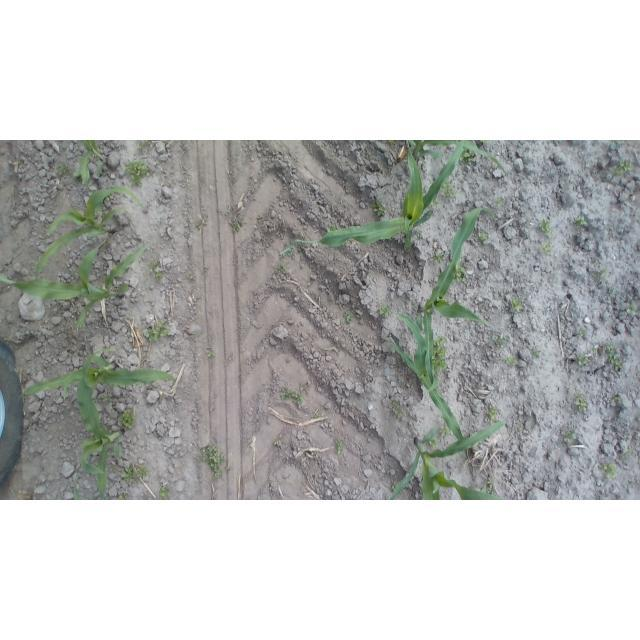Maize: (284, 144, 466, 253), (420, 209, 493, 394), (1, 243, 147, 330), (389, 312, 466, 440), (33, 188, 143, 277), (389, 417, 505, 500), (18, 347, 175, 402), (79, 348, 124, 500), (407, 141, 505, 174), (74, 140, 107, 193), (74, 473, 83, 500)
Weeds: (126, 157, 153, 187), (203, 445, 226, 479), (120, 464, 151, 486), (432, 336, 449, 373), (144, 318, 171, 340), (606, 344, 623, 371), (119, 407, 137, 431), (281, 388, 303, 404), (441, 178, 459, 197), (615, 160, 634, 176), (148, 259, 163, 279), (573, 392, 588, 412), (459, 147, 476, 164), (371, 200, 388, 216), (539, 219, 554, 237), (601, 463, 617, 479), (73, 156, 83, 180), (538, 240, 552, 256), (455, 266, 469, 282), (56, 163, 71, 177), (281, 246, 302, 256), (563, 429, 577, 443), (509, 296, 521, 312), (485, 408, 497, 422), (493, 333, 505, 347), (480, 487, 496, 497), (416, 312, 424, 332), (432, 252, 444, 265), (137, 141, 154, 150), (159, 485, 169, 500), (503, 355, 518, 365), (626, 304, 638, 316), (275, 263, 288, 274), (429, 436, 440, 448), (380, 304, 391, 316), (233, 220, 243, 233), (576, 215, 589, 225), (610, 141, 624, 150), (441, 425, 452, 436), (479, 233, 490, 244), (336, 440, 345, 453), (324, 226, 338, 234), (578, 355, 589, 365), (101, 394, 113, 403), (344, 312, 352, 325), (432, 197, 441, 208), (598, 268, 608, 277), (607, 289, 617, 298), (195, 220, 206, 228), (625, 447, 634, 456), (392, 482, 399, 493), (393, 410, 401, 419), (119, 492, 128, 500), (533, 350, 542, 358), (579, 329, 587, 337), (496, 198, 505, 205), (487, 478, 493, 488), (393, 399, 400, 407), (95, 207, 102, 215), (68, 204, 76, 211), (299, 233, 307, 240), (478, 140, 491, 144), (208, 350, 215, 357), (273, 440, 280, 447), (591, 346, 597, 353), (613, 397, 619, 404), (195, 331, 201, 337), (111, 464, 118, 469), (314, 414, 320, 419), (388, 140, 394, 145), (105, 196, 110, 201), (602, 278, 606, 282), (418, 235, 422, 239)
